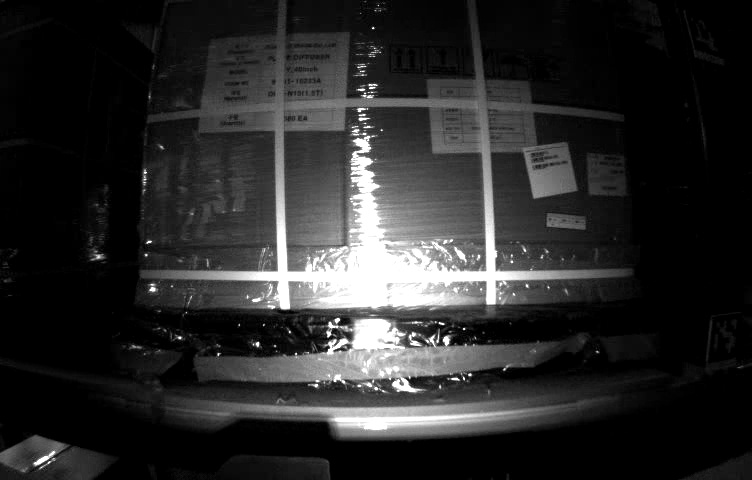True Barcode: (584, 149, 629, 200)
